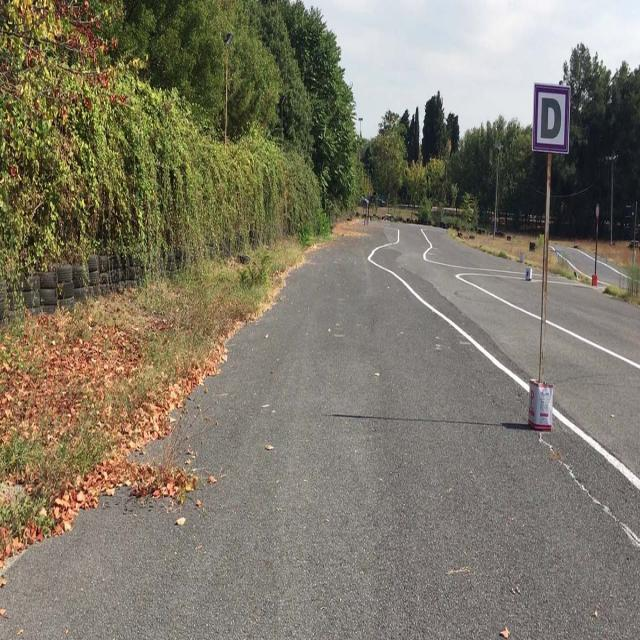durak: (535, 86, 567, 152)
